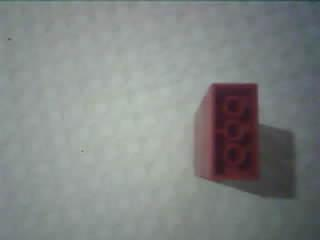lego: (193, 81, 261, 183)
